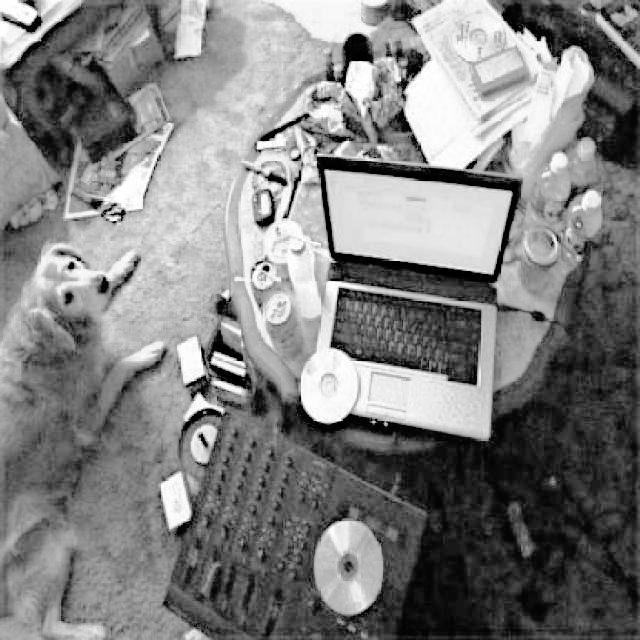Dog: (0, 227, 169, 640)
